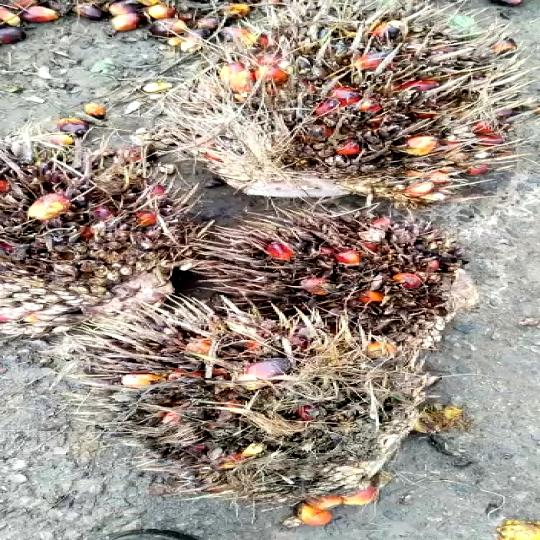terlalu masak: (67, 296, 432, 503), (153, 2, 526, 203), (182, 208, 481, 332)
